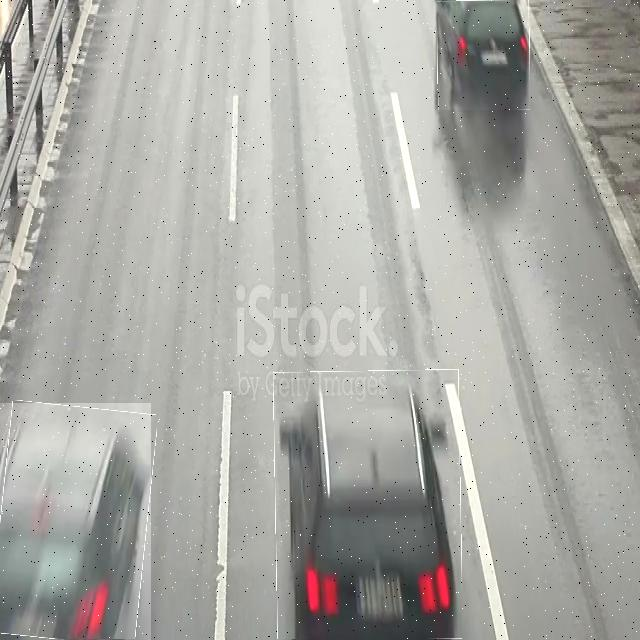Car: (274, 370, 461, 640), (0, 403, 151, 640), (438, 0, 530, 110)
